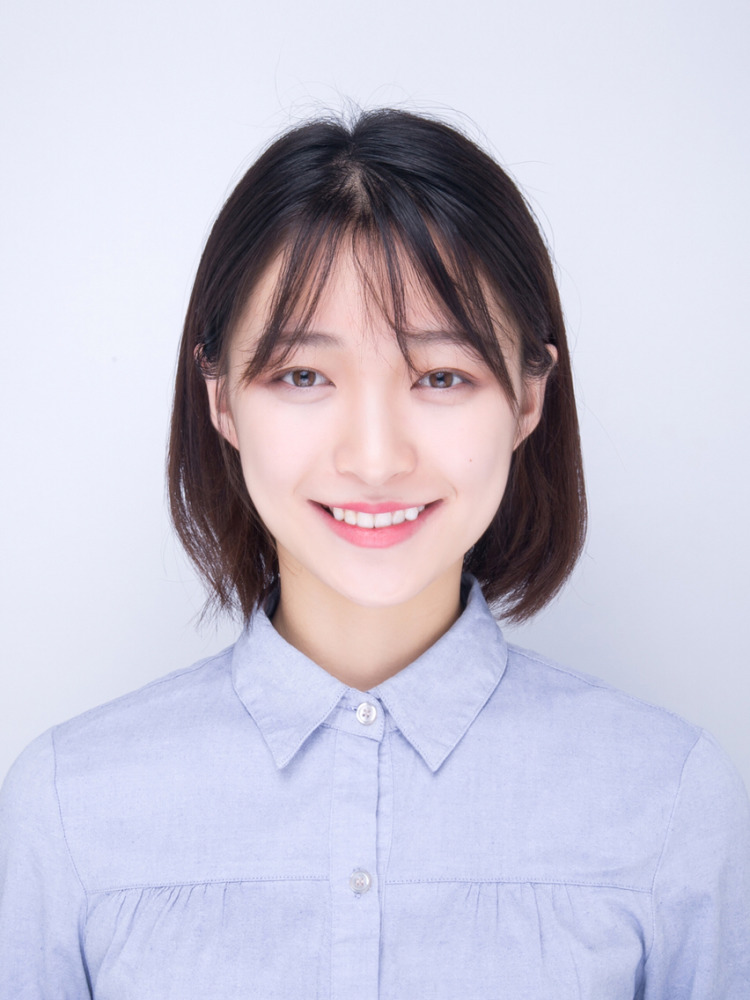unmask: (234, 269, 528, 601)
